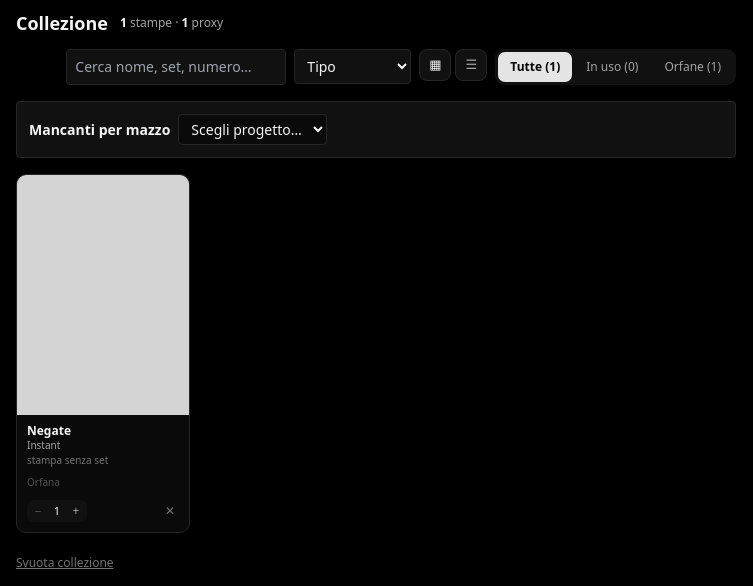
Test: CollectionView › rimozione con conferma
Step 1. Click the button with test id "collection-remove-negate‖‖" → (170, 511), box [161,503,179,519]
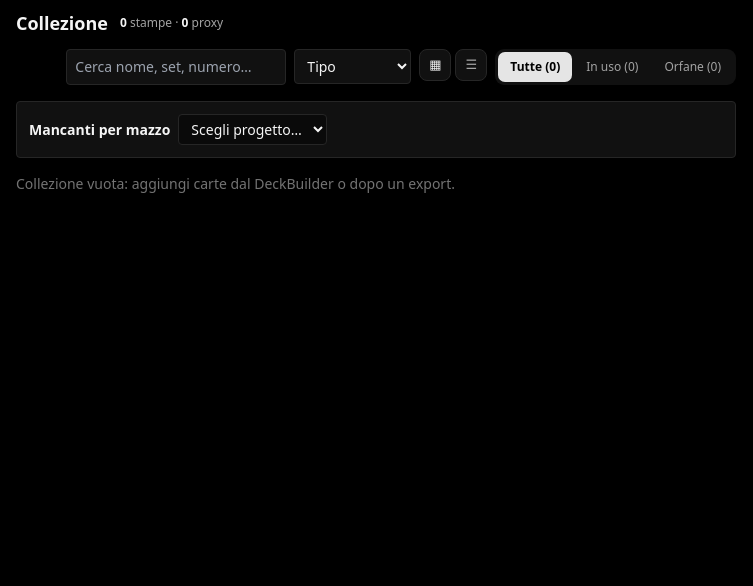
Check: the text "Collezione vuota" is shown, box [16,174,455,193]
